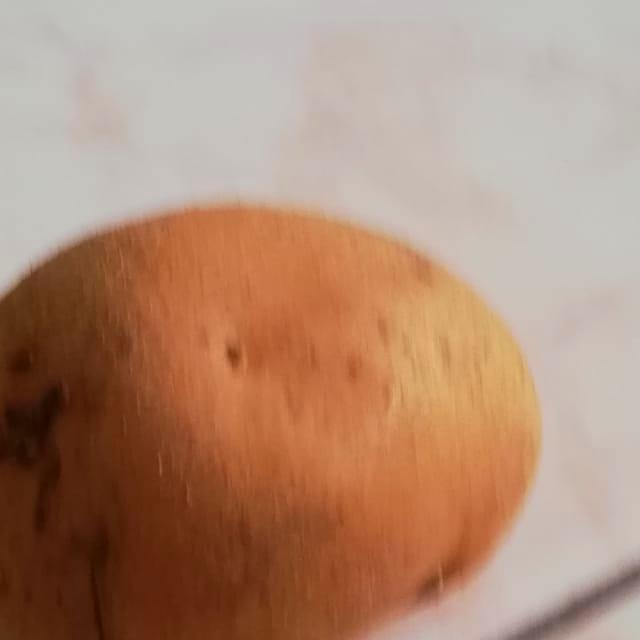potato: (0, 166, 558, 640)
